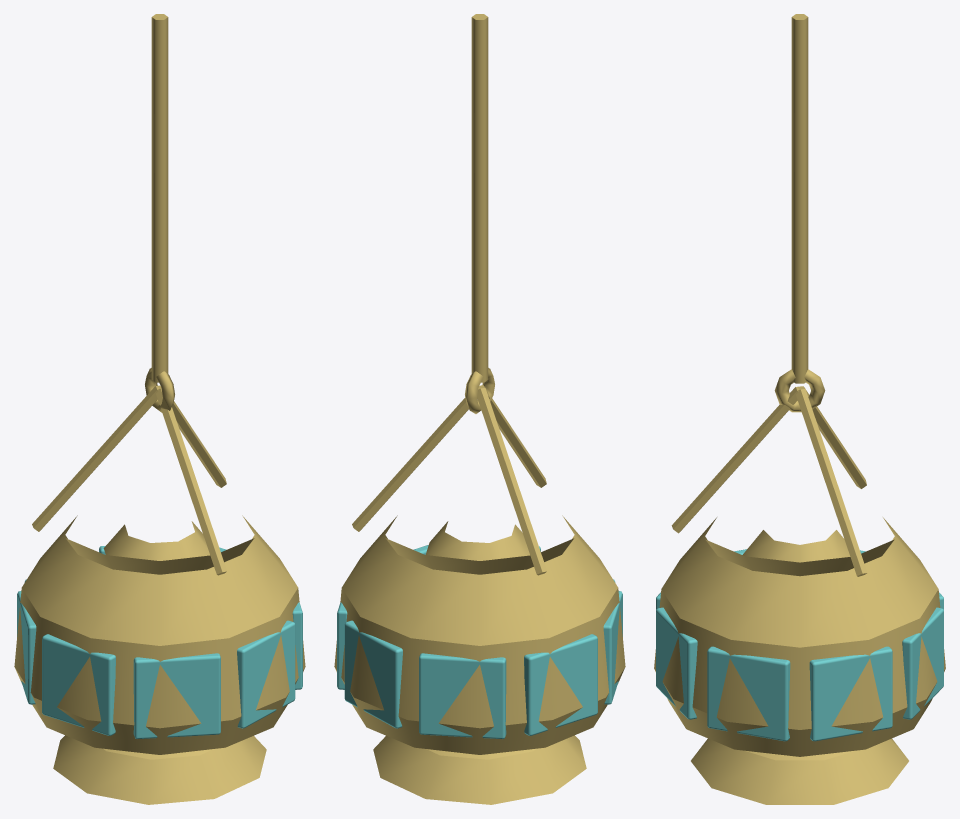
File: hanging-lamp-small-4498b1f4.glb
The picture shows the model from 3 angles, left to right: view 1: azimuth 30°, elevation 25°; view 2: azimuth 150°, elevation 25°; view 3: azimuth 270°, elevation 25°; orthographic projection.
Parts seen in each view (by area): view 1: lamp/brass, lamp/glaze; view 2: lamp/brass, lamp/glaze; view 3: lamp/brass, lamp/glaze.
Part boxes in pixels (left/top/right/bottom): lamp/brass: left=14, top=14, right=305, bottom=804; lamp/glaze: left=17, top=546, right=302, bottom=738; lamp/brass: left=334, top=14, right=625, bottom=804; lamp/glaze: left=337, top=545, right=622, bottom=738; lamp/brass: left=654, top=14, right=945, bottom=804; lamp/glaze: left=656, top=549, right=943, bottom=741.
Bounding box in the file's own units: 0.4959 × 1.39 × 0.4959.
